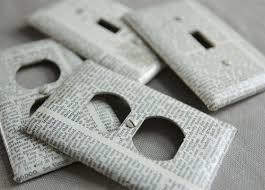Printing industry: (0, 2, 265, 190)
